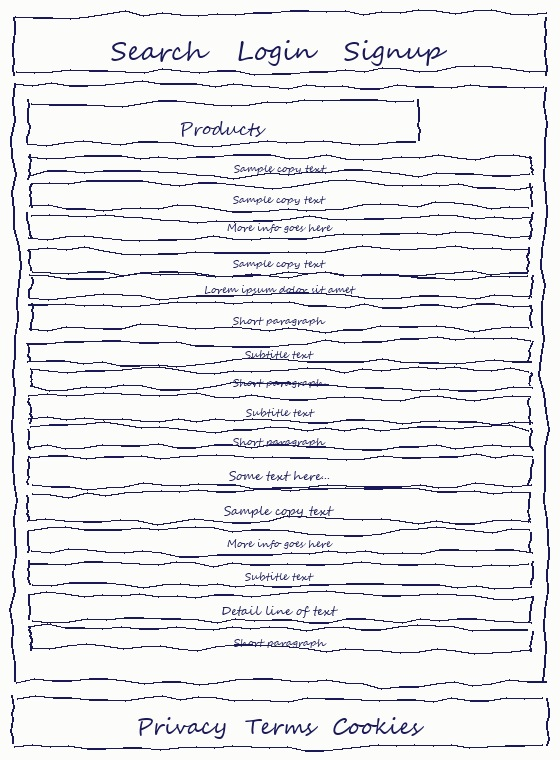card: (30, 101, 416, 143), (30, 457, 530, 485), (30, 493, 530, 521), (30, 594, 530, 621), (30, 306, 530, 330), (30, 398, 530, 422), (30, 185, 530, 208), (30, 214, 530, 237), (30, 248, 530, 271), (30, 562, 530, 585), (30, 155, 530, 177), (30, 277, 530, 299), (30, 629, 530, 651), (30, 341, 530, 361), (30, 531, 530, 551), (30, 429, 530, 448), (30, 370, 530, 388)
footer: (15, 696, 545, 745)
navbar: (15, 15, 545, 73)
section: (15, 86, 545, 684)
